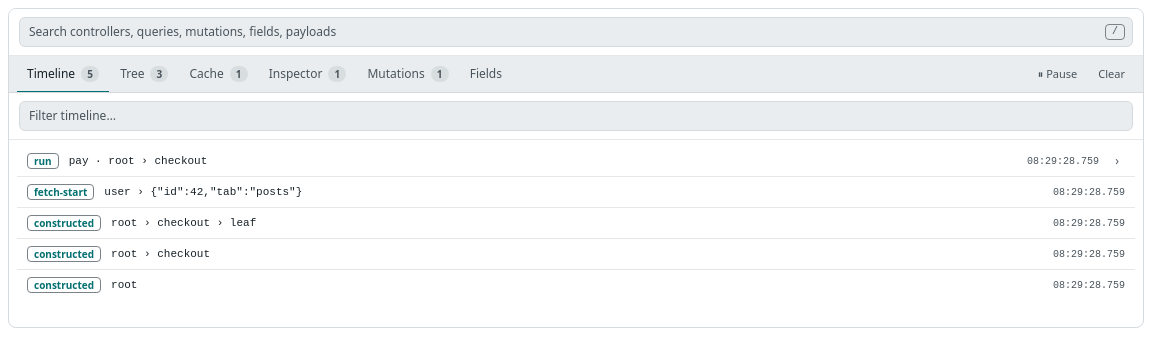
Test case: the omnibox — T8.3 › Enter jumps to the active result and highlights it
The width and height of the screenshot is (1152, 345).
Type "checkout" into the dropdown named "Search everything".
click(576, 32); type("checkout")  # box [19, 17, 1133, 47]
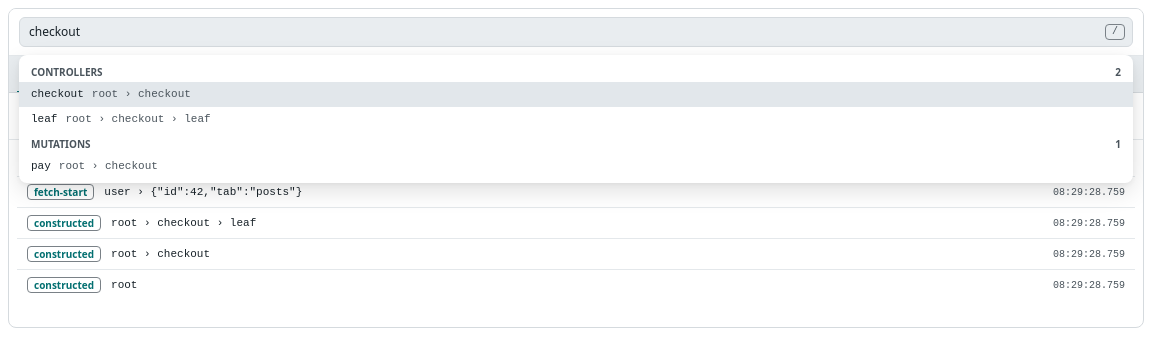
Press Enter in the dropdown named "Search everything", box [19, 17, 1133, 47]
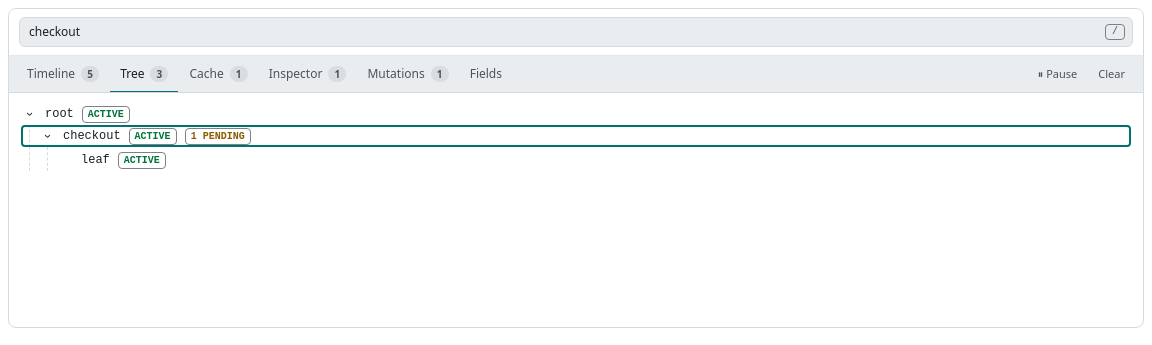
Expected: the list is gone
